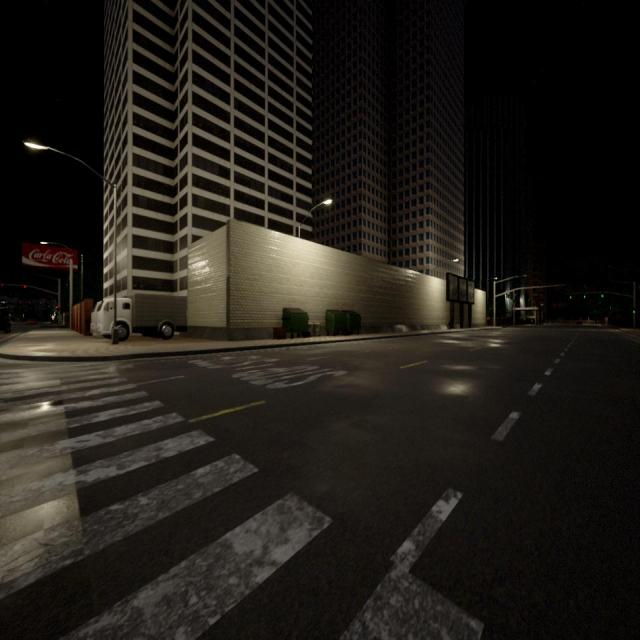Vehicle: (96, 293, 188, 341), (90, 300, 104, 338), (0, 315, 12, 334), (27, 319, 36, 325)
traffic_light: (569, 293, 572, 300), (57, 305, 60, 311), (601, 292, 604, 298), (0, 283, 4, 286), (633, 308, 635, 314), (584, 293, 586, 298), (19, 300, 21, 304), (24, 284, 26, 288), (40, 301, 42, 304), (29, 301, 30, 304)
